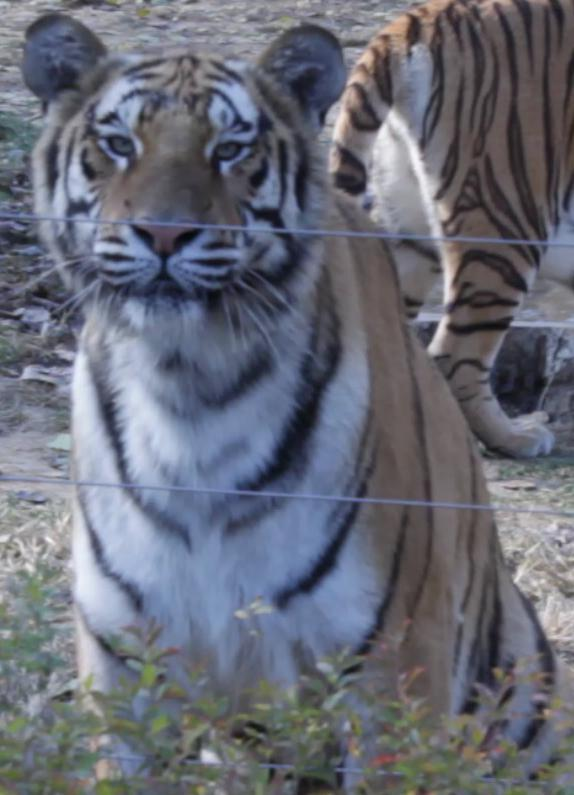tiger: (23, 13, 568, 772)
